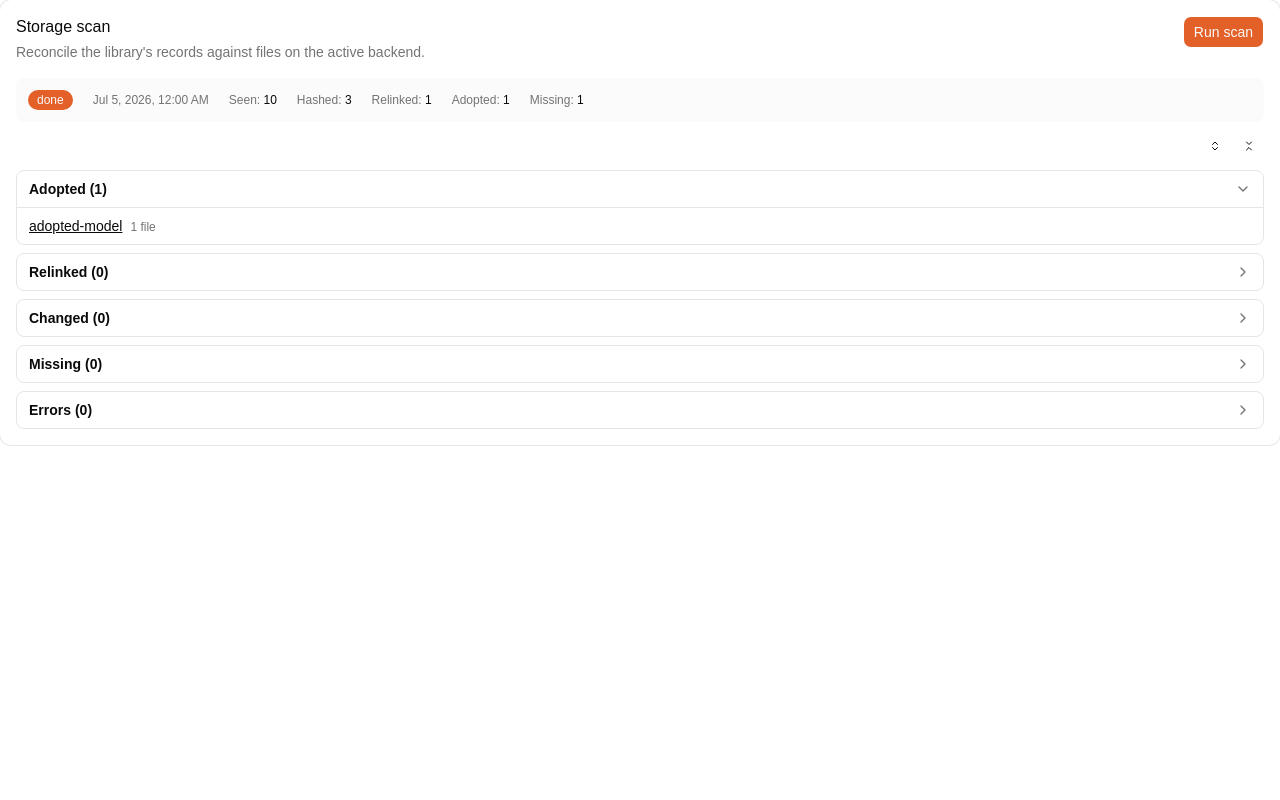
Test: ScanReport › collapses every section via collapse-all and reopens them via expand-all, including a zero-count section's empty-state copy
This screenshot has width=1280, height=800.
Expected: the button "Adopted (1)" is shown, left=17, top=171, right=1263, bottom=207
Expected: the button named "Expand all scan sections" is enabled, left=1200, top=134, right=1230, bottom=158
Click the button named "Collapse all scan sections" at (1249, 146), box left=1234, top=134, right=1264, bottom=158
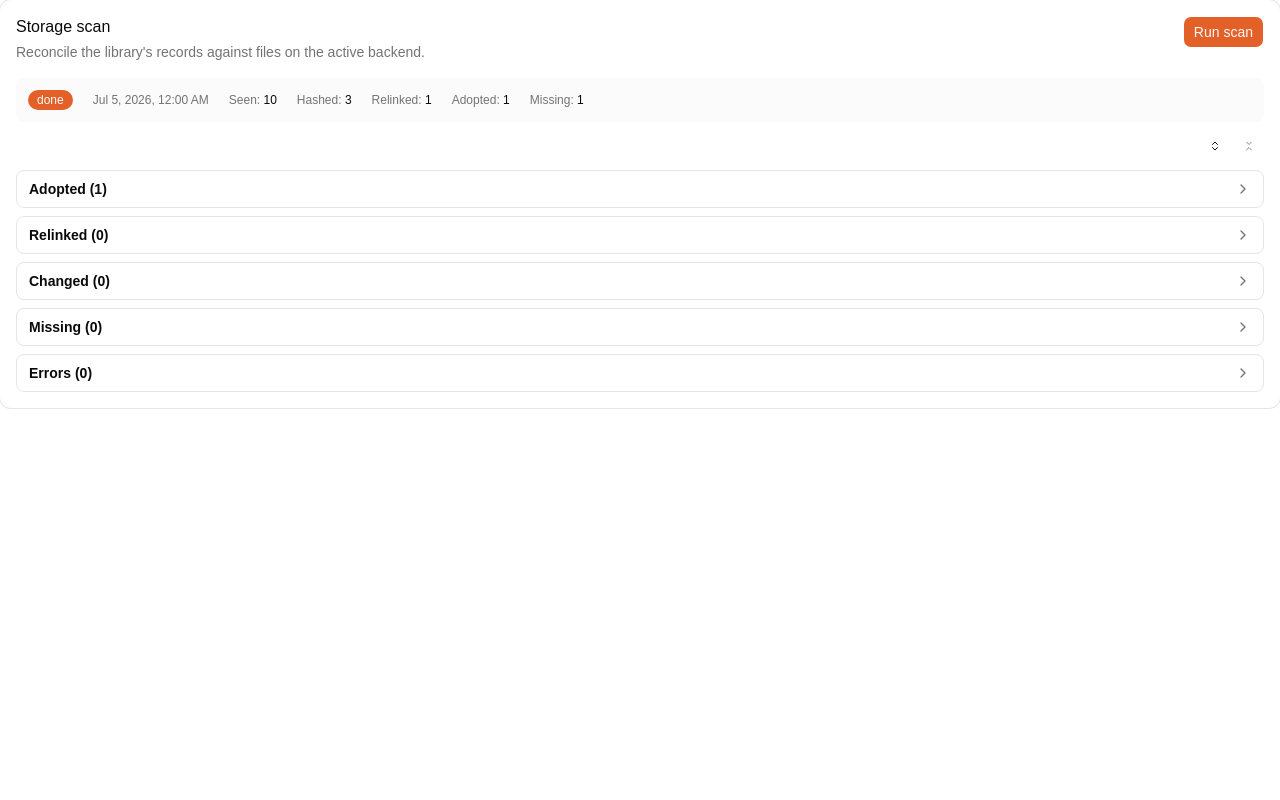
Now the button "Adopted (1)" is collapsed, box left=17, top=171, right=1263, bottom=207
Now the link "adopted-model" is gone
Now the button named "Collapse all scan sections" is disabled, box left=1234, top=134, right=1264, bottom=158
Click the button named "Expand all scan sections" at (1215, 146), box left=1200, top=134, right=1230, bottom=158
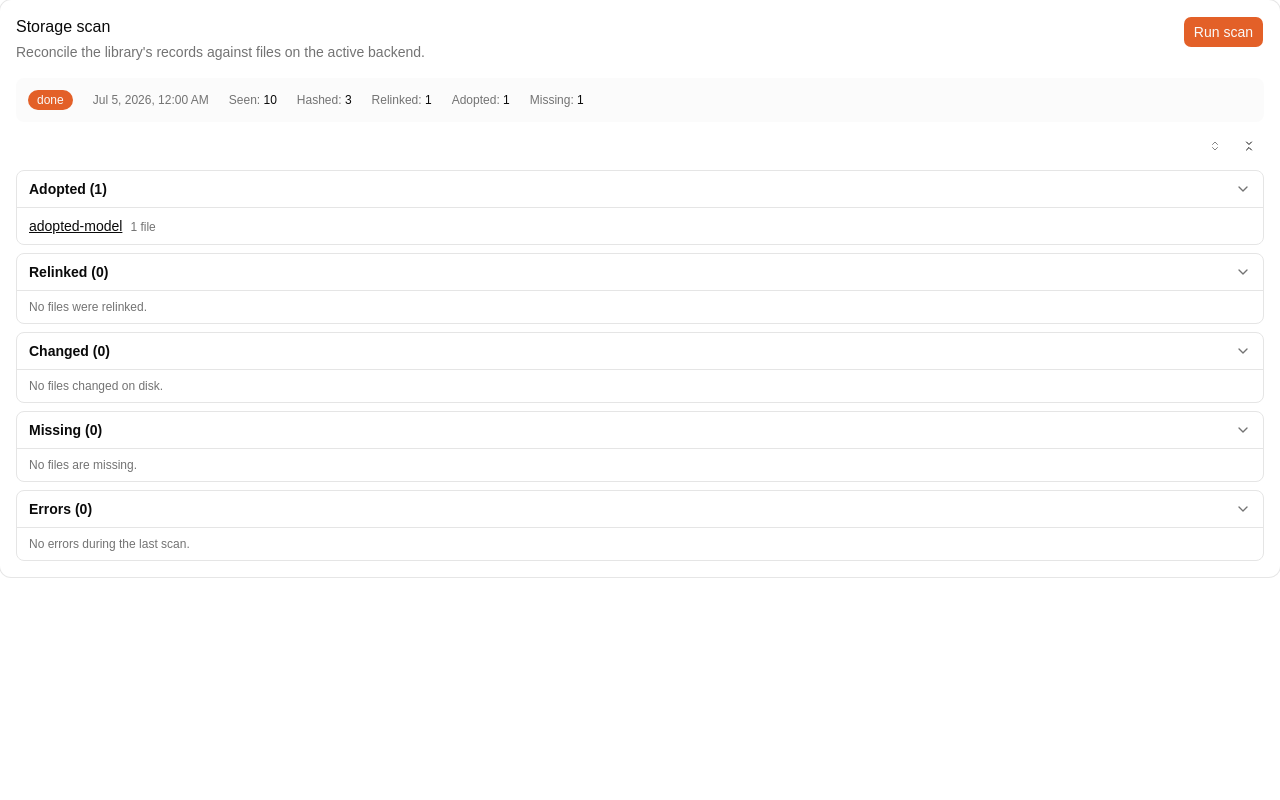
Now the button "Adopted (1)" is expanded, box left=17, top=171, right=1263, bottom=207
Now the button "Relinked (0)" is expanded, box left=17, top=254, right=1263, bottom=290
Now the button "Changed (0)" is expanded, box left=17, top=333, right=1263, bottom=369
